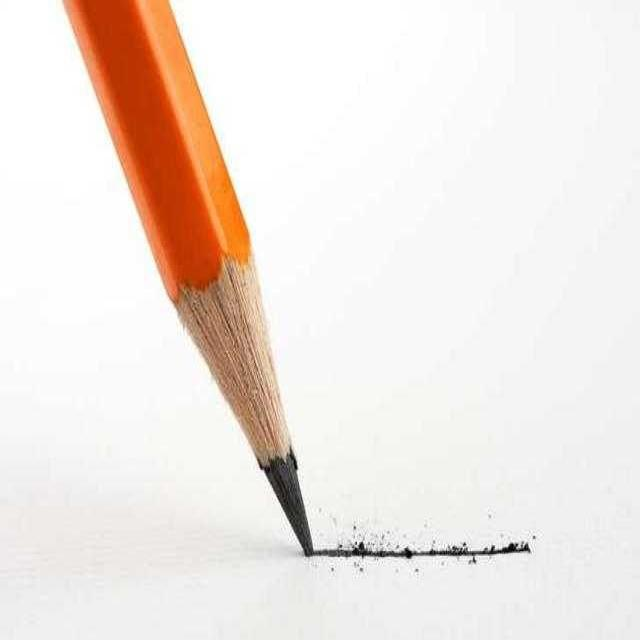pencil: (58, 0, 350, 583)
